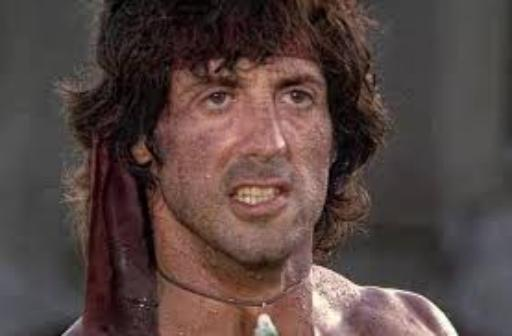left_eye: (277, 89, 319, 110)
left_lip_corner: (280, 185, 291, 202)
right_eye: (196, 91, 239, 111)
right_lip_corner: (227, 189, 237, 203)
